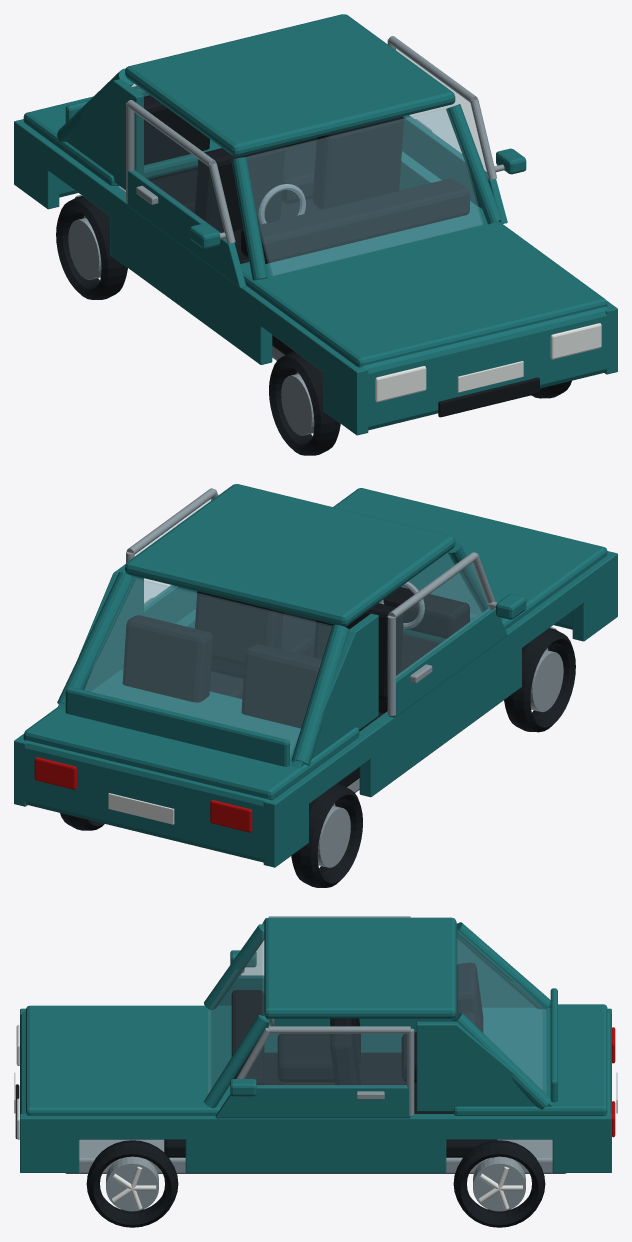
3 views of the same model, one above another, from view 1: azimuth 30°, elevation 25°; view 2: azimuth 150°, elevation 25°; view 3: azimuth 270°, elevation 25° (orthographic). The views are drawn at different scales.
Parts seen in each view (by area): view 1: BONNET, ROOF, WINDSCREEN, BODY_WheelArchSill.001, BODY_Nose, DASHBOARD, SEAT_Back.002, DOOR_ClearPane.001, REAR_Quarter.001, SEAT_Back, DOOR_Lower.001, TYRE (+25 smaller); view 2: ROOF, HATCH_Glass, BODY_WheelArchSill.001, REAR_Deck, BONNET, BODY_Tail, HATCH_Lower, SEAT_Back.003, REAR_Quarter.001, DOOR_ClearPane.001, SEAT_Back.001, SEAT_Back.002 (+24 smaller); view 3: BODY_WheelArchSill, BONNET, ROOF, REAR_Deck, DOOR_ClearPane, REAR_Quarter, HATCH_Glass, DOOR_Lower, WINDSCREEN, TYRE.002, TYRE.003, FLOOR_Cabin (+23 smaller).
Boxes of the visible parts, bbox=[...] form: BONNET: bbox=[240, 206, 607, 367]; ROOF: bbox=[125, 14, 455, 156]; WINDSCREEN: bbox=[246, 107, 483, 275]; BODY_WheelArchSill.001: bbox=[14, 119, 368, 435]; BODY_Nose: bbox=[359, 307, 607, 430]; DASHBOARD: bbox=[241, 178, 469, 263]; SEAT_Back.002: bbox=[312, 116, 403, 209]; DOOR_ClearPane.001: bbox=[131, 110, 225, 239]; REAR_Quarter.001: bbox=[57, 79, 143, 190]; SEAT_Back: bbox=[194, 145, 284, 232]; DOOR_Lower.001: bbox=[127, 169, 245, 287]; TYRE: bbox=[269, 351, 340, 455]; ROOF: bbox=[125, 484, 455, 626]; HATCH_Glass: bbox=[84, 578, 331, 757]; BODY_WheelArchSill.001: bbox=[263, 551, 617, 867]; REAR_Deck: bbox=[23, 670, 359, 799]; BONNET: bbox=[333, 488, 607, 642]; BODY_Tail: bbox=[24, 740, 271, 862]; HATCH_Lower: bbox=[65, 687, 289, 766]; SEAT_Back.003: bbox=[122, 615, 212, 702]; REAR_Quarter.001: bbox=[292, 613, 378, 767]; DOOR_ClearPane.001: bbox=[396, 562, 491, 678]; SEAT_Back.001: bbox=[241, 644, 321, 728]; SEAT_Back.002: bbox=[195, 591, 283, 665]; BODY_WheelArchSill: bbox=[20, 1114, 611, 1172]; BONNET: bbox=[26, 1005, 231, 1115]; ROOF: bbox=[264, 917, 456, 1018]; REAR_Deck: bbox=[453, 1004, 607, 1115]; DOOR_ClearPane: bbox=[245, 1034, 406, 1086]; REAR_Quarter: bbox=[416, 1021, 553, 1111]; HATCH_Glass: bbox=[455, 929, 545, 1093]; DOOR_Lower: bbox=[215, 1085, 410, 1118]; WINDSCREEN: bbox=[208, 929, 264, 1093]; TYRE.002: bbox=[86, 1140, 178, 1227]; TYRE.003: bbox=[453, 1140, 545, 1227]; FLOOR_Cabin: bbox=[164, 1052, 496, 1157].
Bounding box in the file's own units: 2.18 × 1.59 × 4.08.
